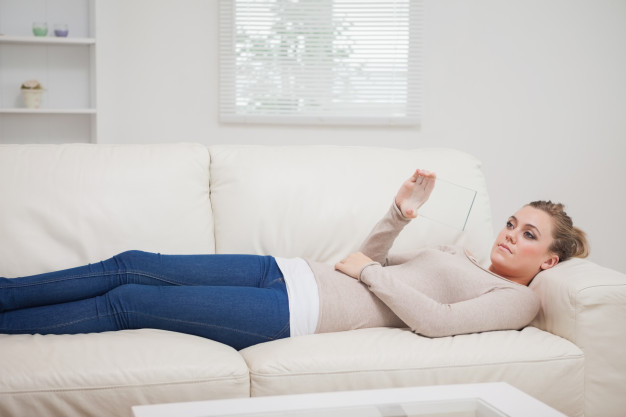Humano: (1, 174, 592, 364)
